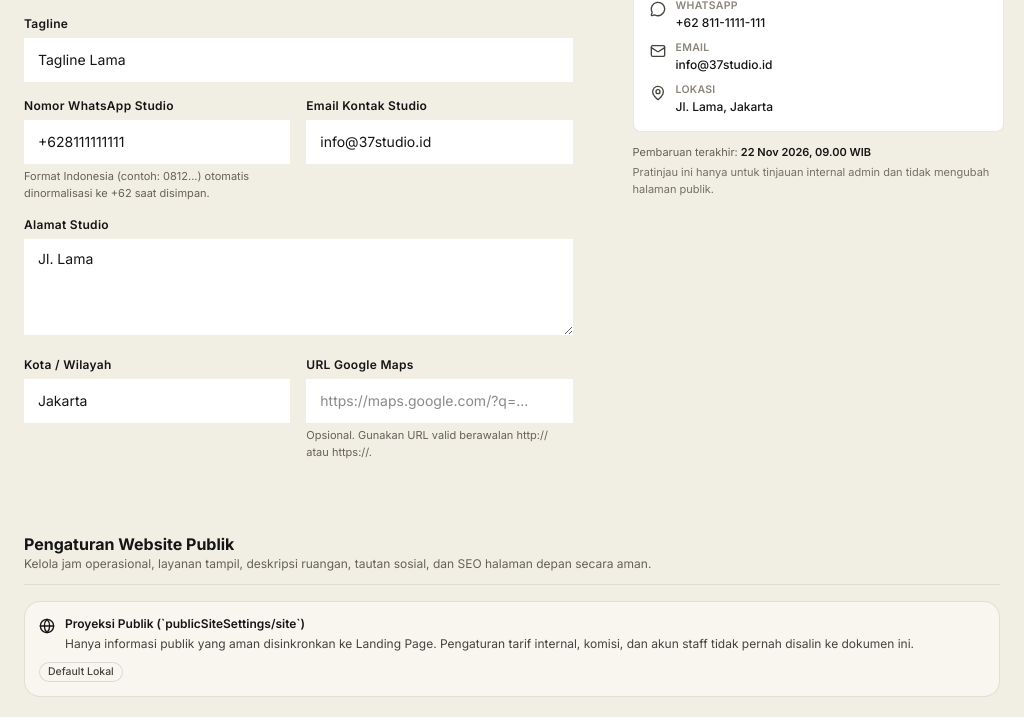
it: Studio Profile & Contact UI (/admin/settings/studio-profile) › guards dirty navigation via confirmation modal and surfaces stale remote updates with Reload Latest
The width and height of the screenshot is (1024, 717).
(page scrolled)
Replace the text in the field labelled "Kota / Wilayah" with "Yogyakarta Draft" at (157,401), box [24,379,290,423]
(page scrolled)
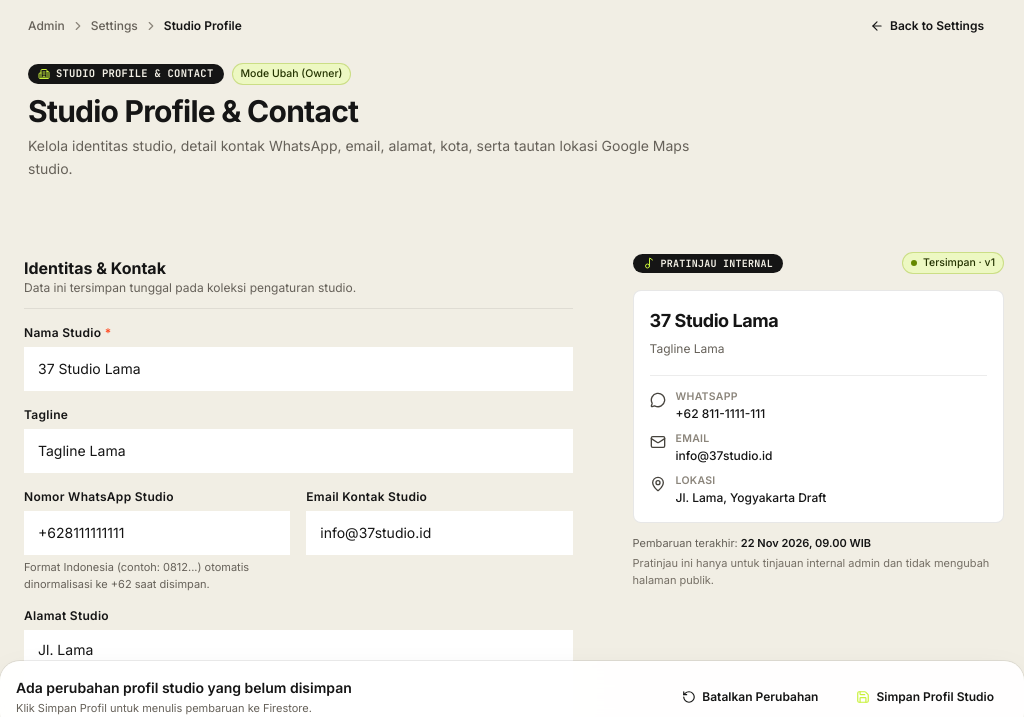
# Back button opens leave guard when dirty
Click the button "Back to Settings" at (927,26), box [858,5,996,47]
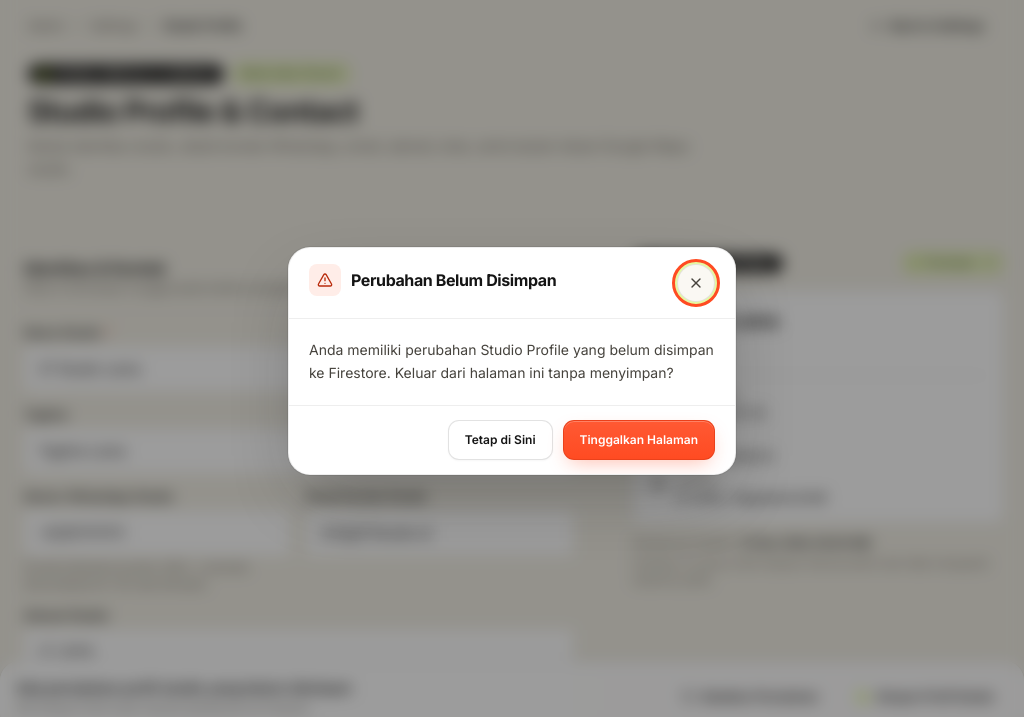
Check: the dialog is shown, box [288,247,736,475]
Check: the heading "Perubahan Belum Disimpan" is shown, box [351,268,556,292]
Click the button "Tetap di Sini" at (500,440), box [448,420,553,460]
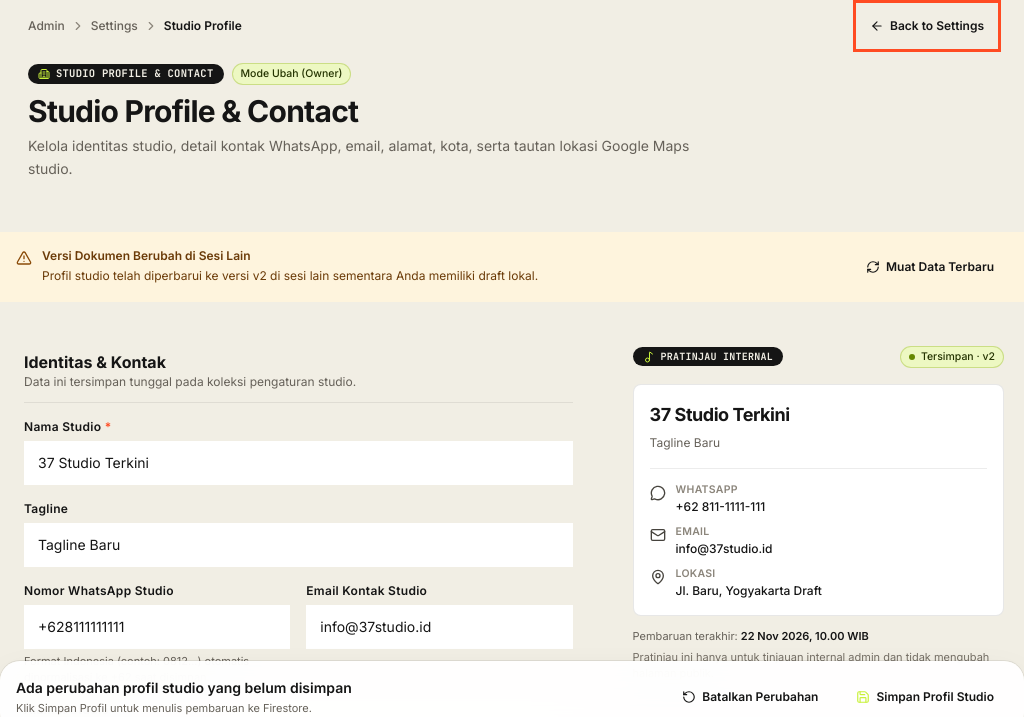
Click the button "Muat Data Terbaru" at (930,267), box [852,249,1008,285]
(page scrolled)
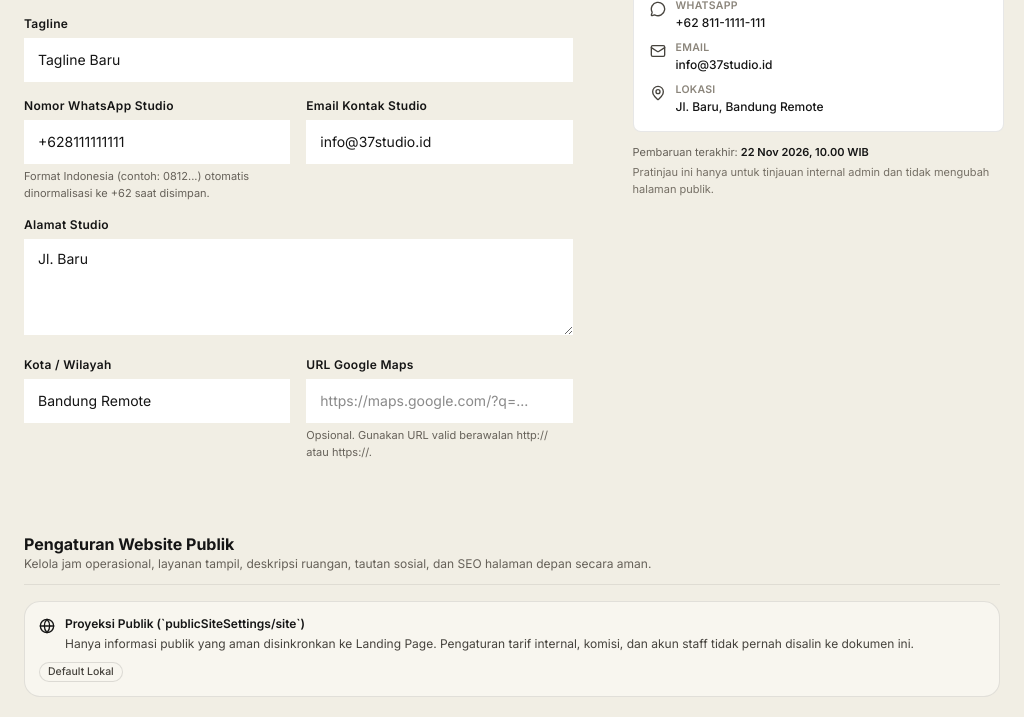
Check: the field labelled "Kota / Wilayah" holds "Bandung Remote", box [24,379,290,423]
